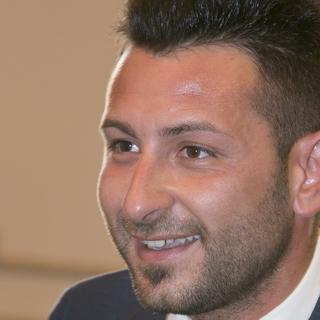eye: (166, 138, 222, 166), (101, 132, 144, 162)
